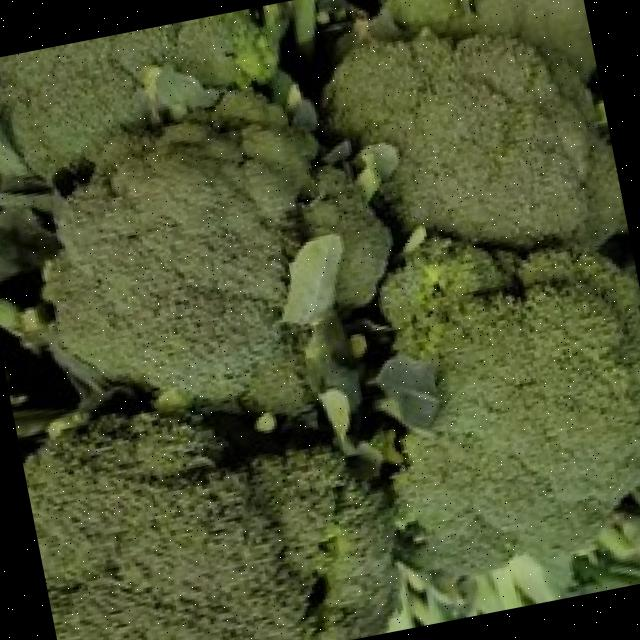Broccoli: (44, 88, 389, 409), (44, 89, 355, 403), (382, 239, 640, 572), (382, 240, 640, 572), (22, 411, 394, 640), (22, 416, 395, 640), (324, 31, 623, 247), (326, 32, 623, 247), (0, 8, 277, 178), (0, 8, 276, 178), (389, 0, 596, 72), (389, 0, 596, 72)
